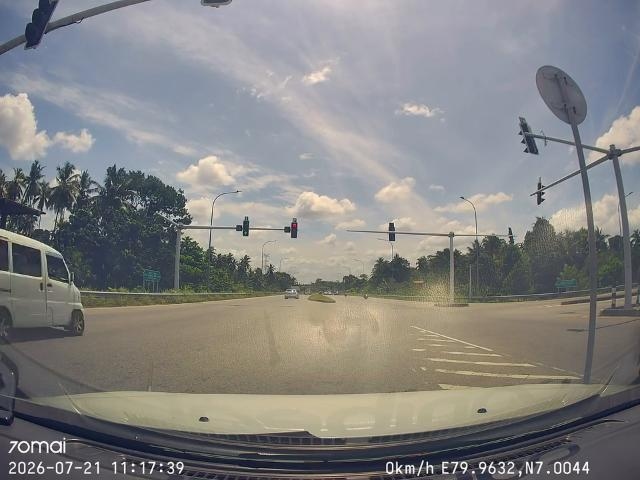red light violation: (0, 211, 93, 353)
traffic light red: (283, 214, 302, 245)
